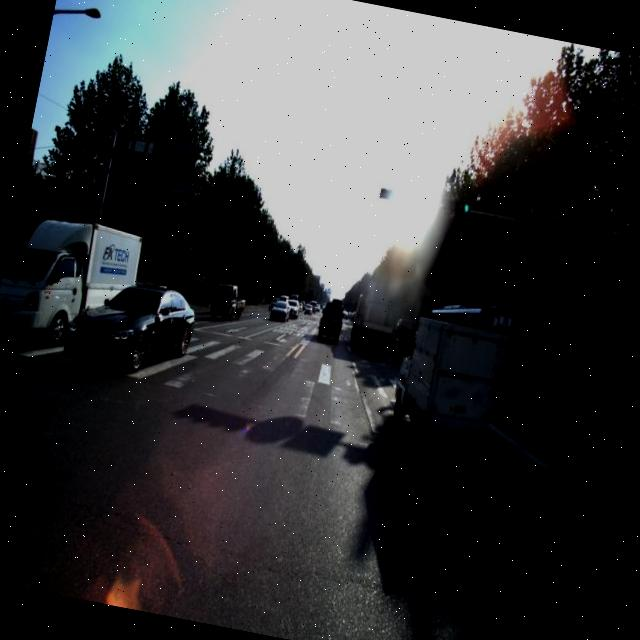crosswalk: (0, 309, 618, 477)
